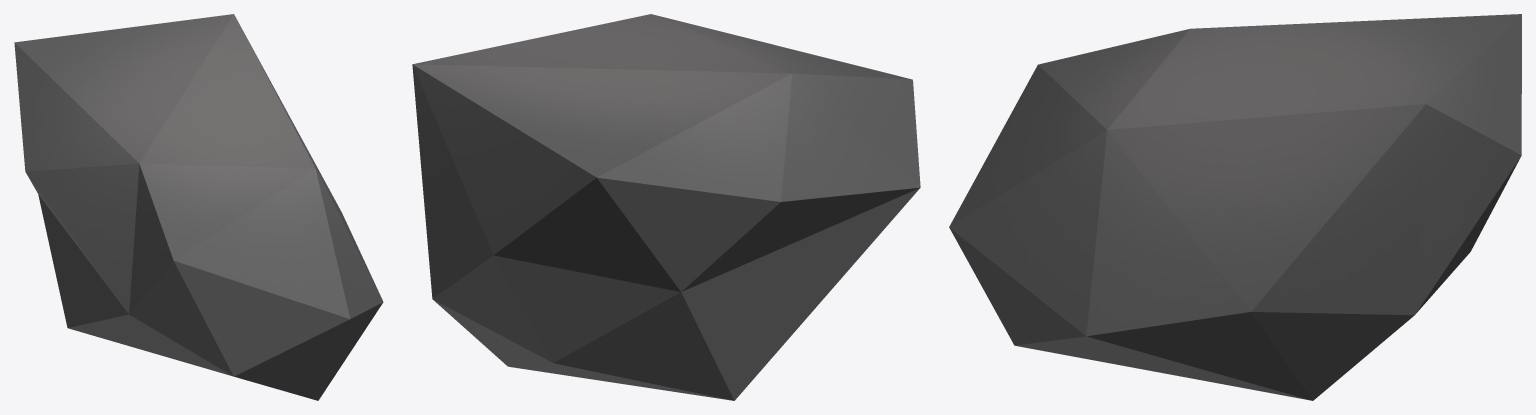
File: rock3.gltf
3 views of the same model, side by side, from view 1: azimuth 30°, elevation 25°; view 2: azimuth 150°, elevation 25°; view 3: azimuth 270°, elevation 25° (orthographic). The views are drawn at different scales.
Parts seen in each view (by area): view 1: Rock3_low; view 2: Rock3_low; view 3: Rock3_low.
Part boxes in pixels (x1,y1,x2,y2): Rock3_low: (14,14,383,400); Rock3_low: (412,14,920,400); Rock3_low: (949,14,1521,400).
Size of the model in its own units: 4.27 by 3.74 by 6.22.
1 material, 1 textured.
